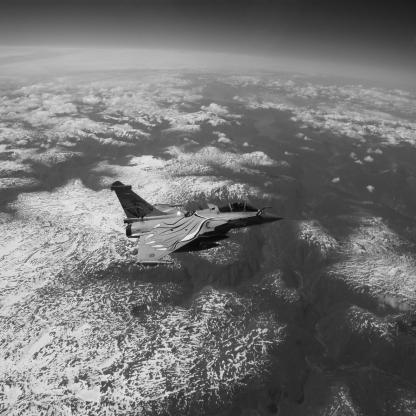Rafale: (112, 182, 286, 267)
